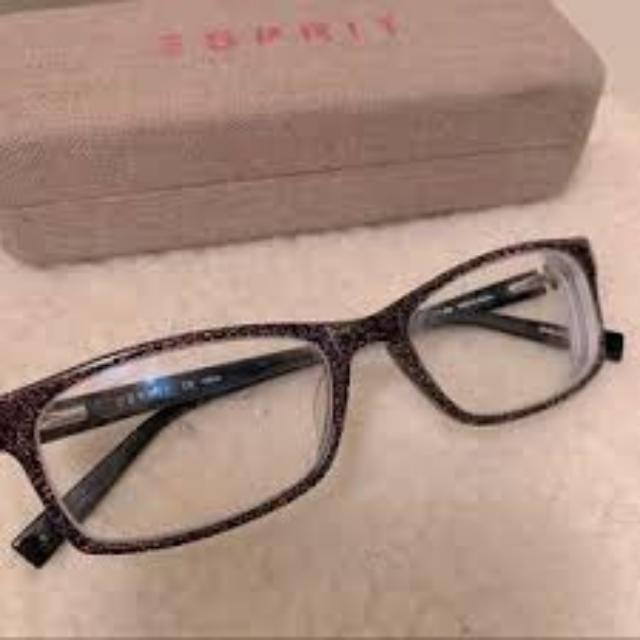glasses: (1, 234, 626, 566)
